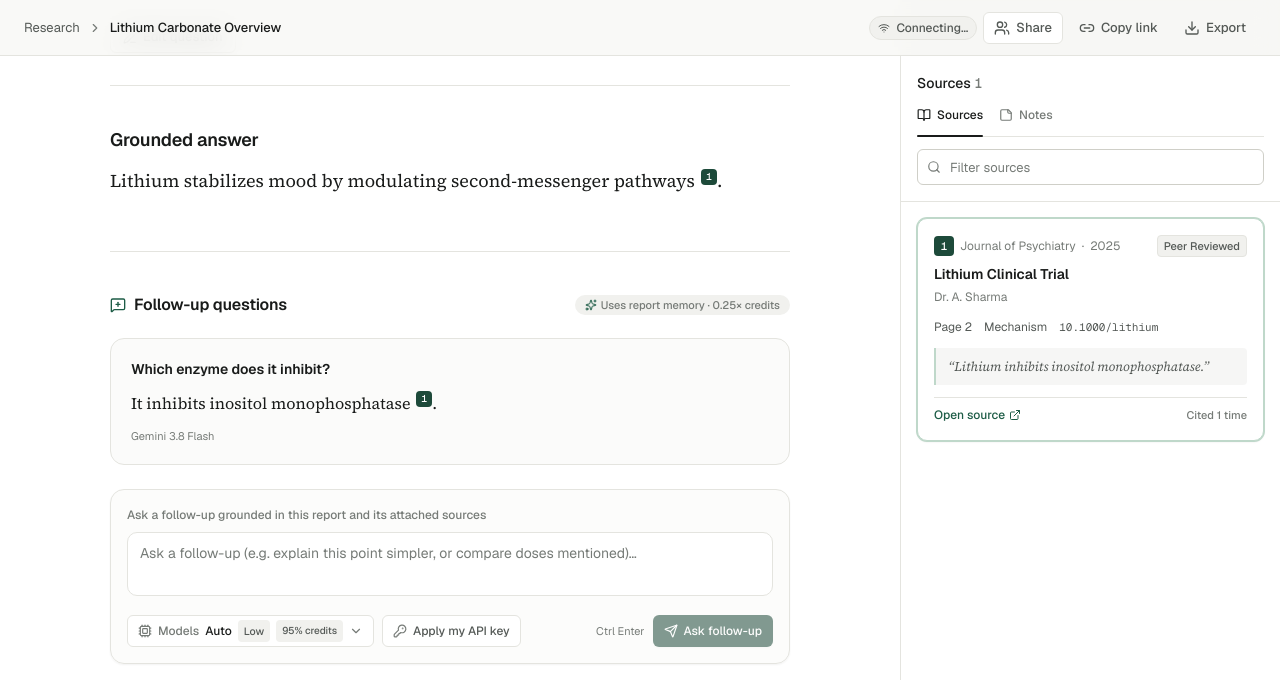
Test: ResearchReportPage follow-up questions › renders saved followups and appends new grounded followup answers with updated sources
The width and height of the screenshot is (1280, 680).
(page scrolled)
Expected: the heading "Follow-up questions" is shown, [134,292,287,318]
Expected: the text "Uses report memory · 0.25× credits" is shown, [575,295,790,315]
Replace the text in the text box named "Follow-up question" with "What serum range should be monitored?". click: (450, 564)
box: [127,532,773,596]
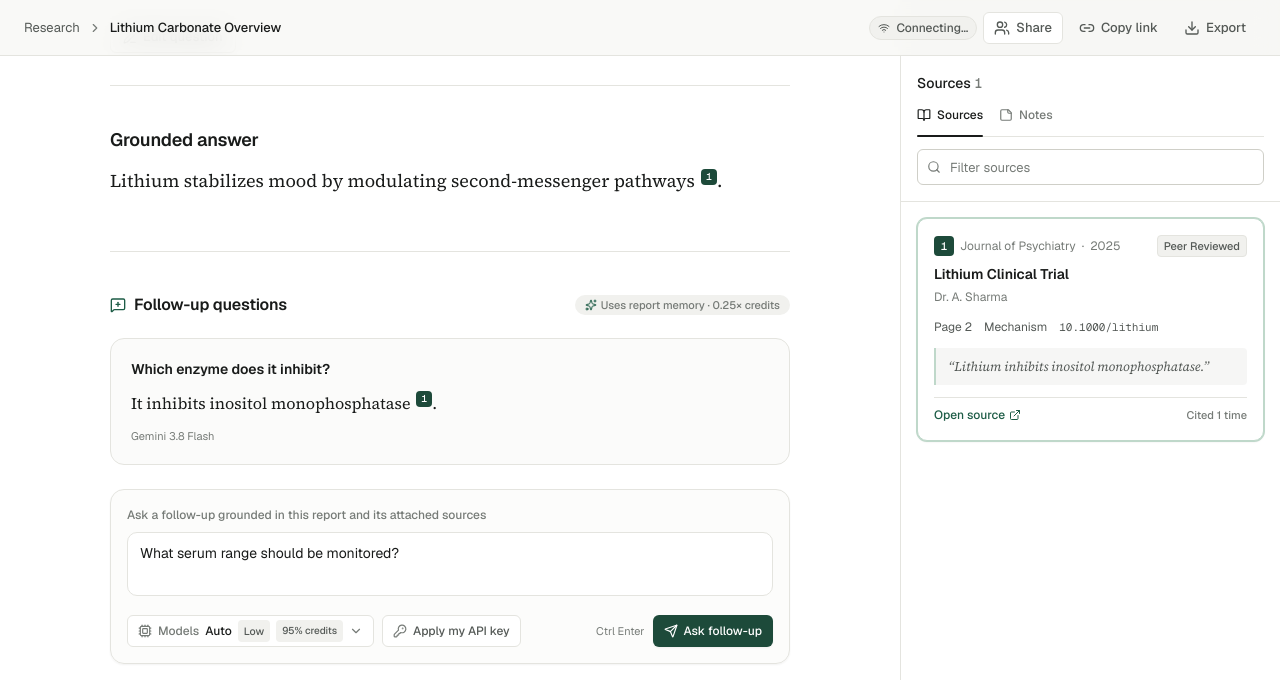
Click the button "Ask follow-up". click: click(713, 631)
box: [652,615,773,647]
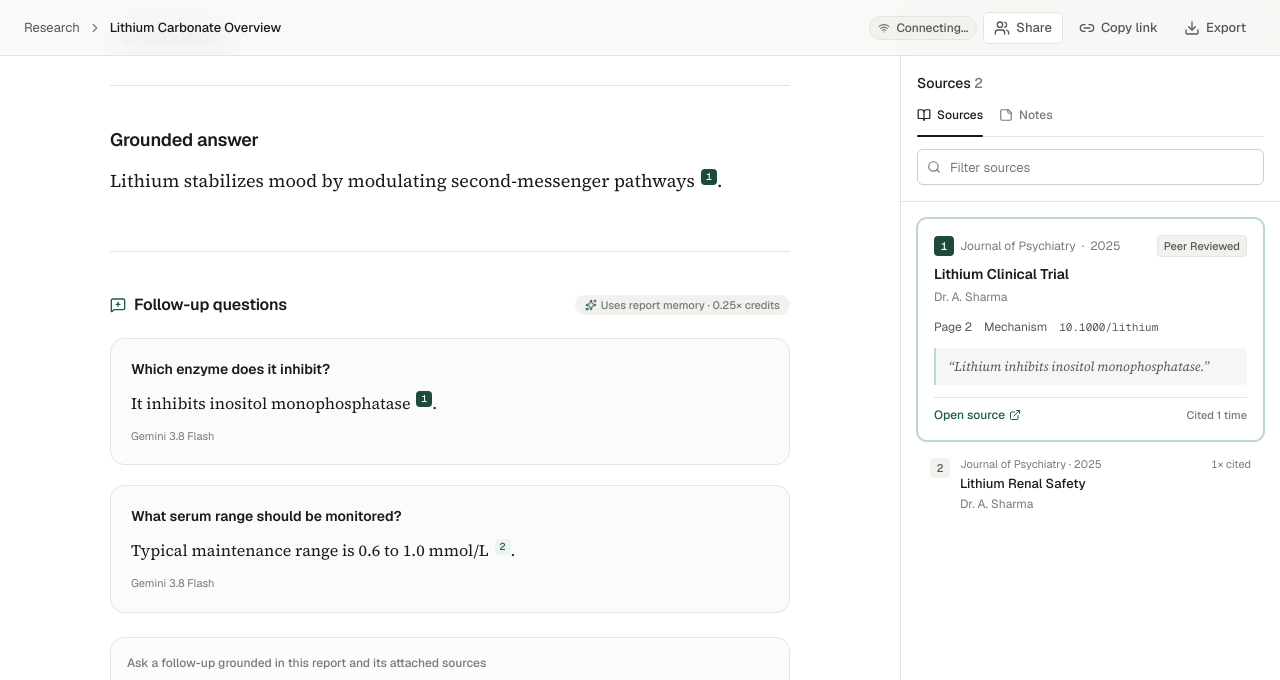
Expected: the text "What serum range should be monitored?" is shown, [131,507,402,525]
Expected: the text "Typical maintenance range is 0.6 to 1.0 mmol/L 2 ." is shown, [131,539,515,561]
Expected: the heading "Lithium Renal Safety" is shown, [960,475,1086,492]
